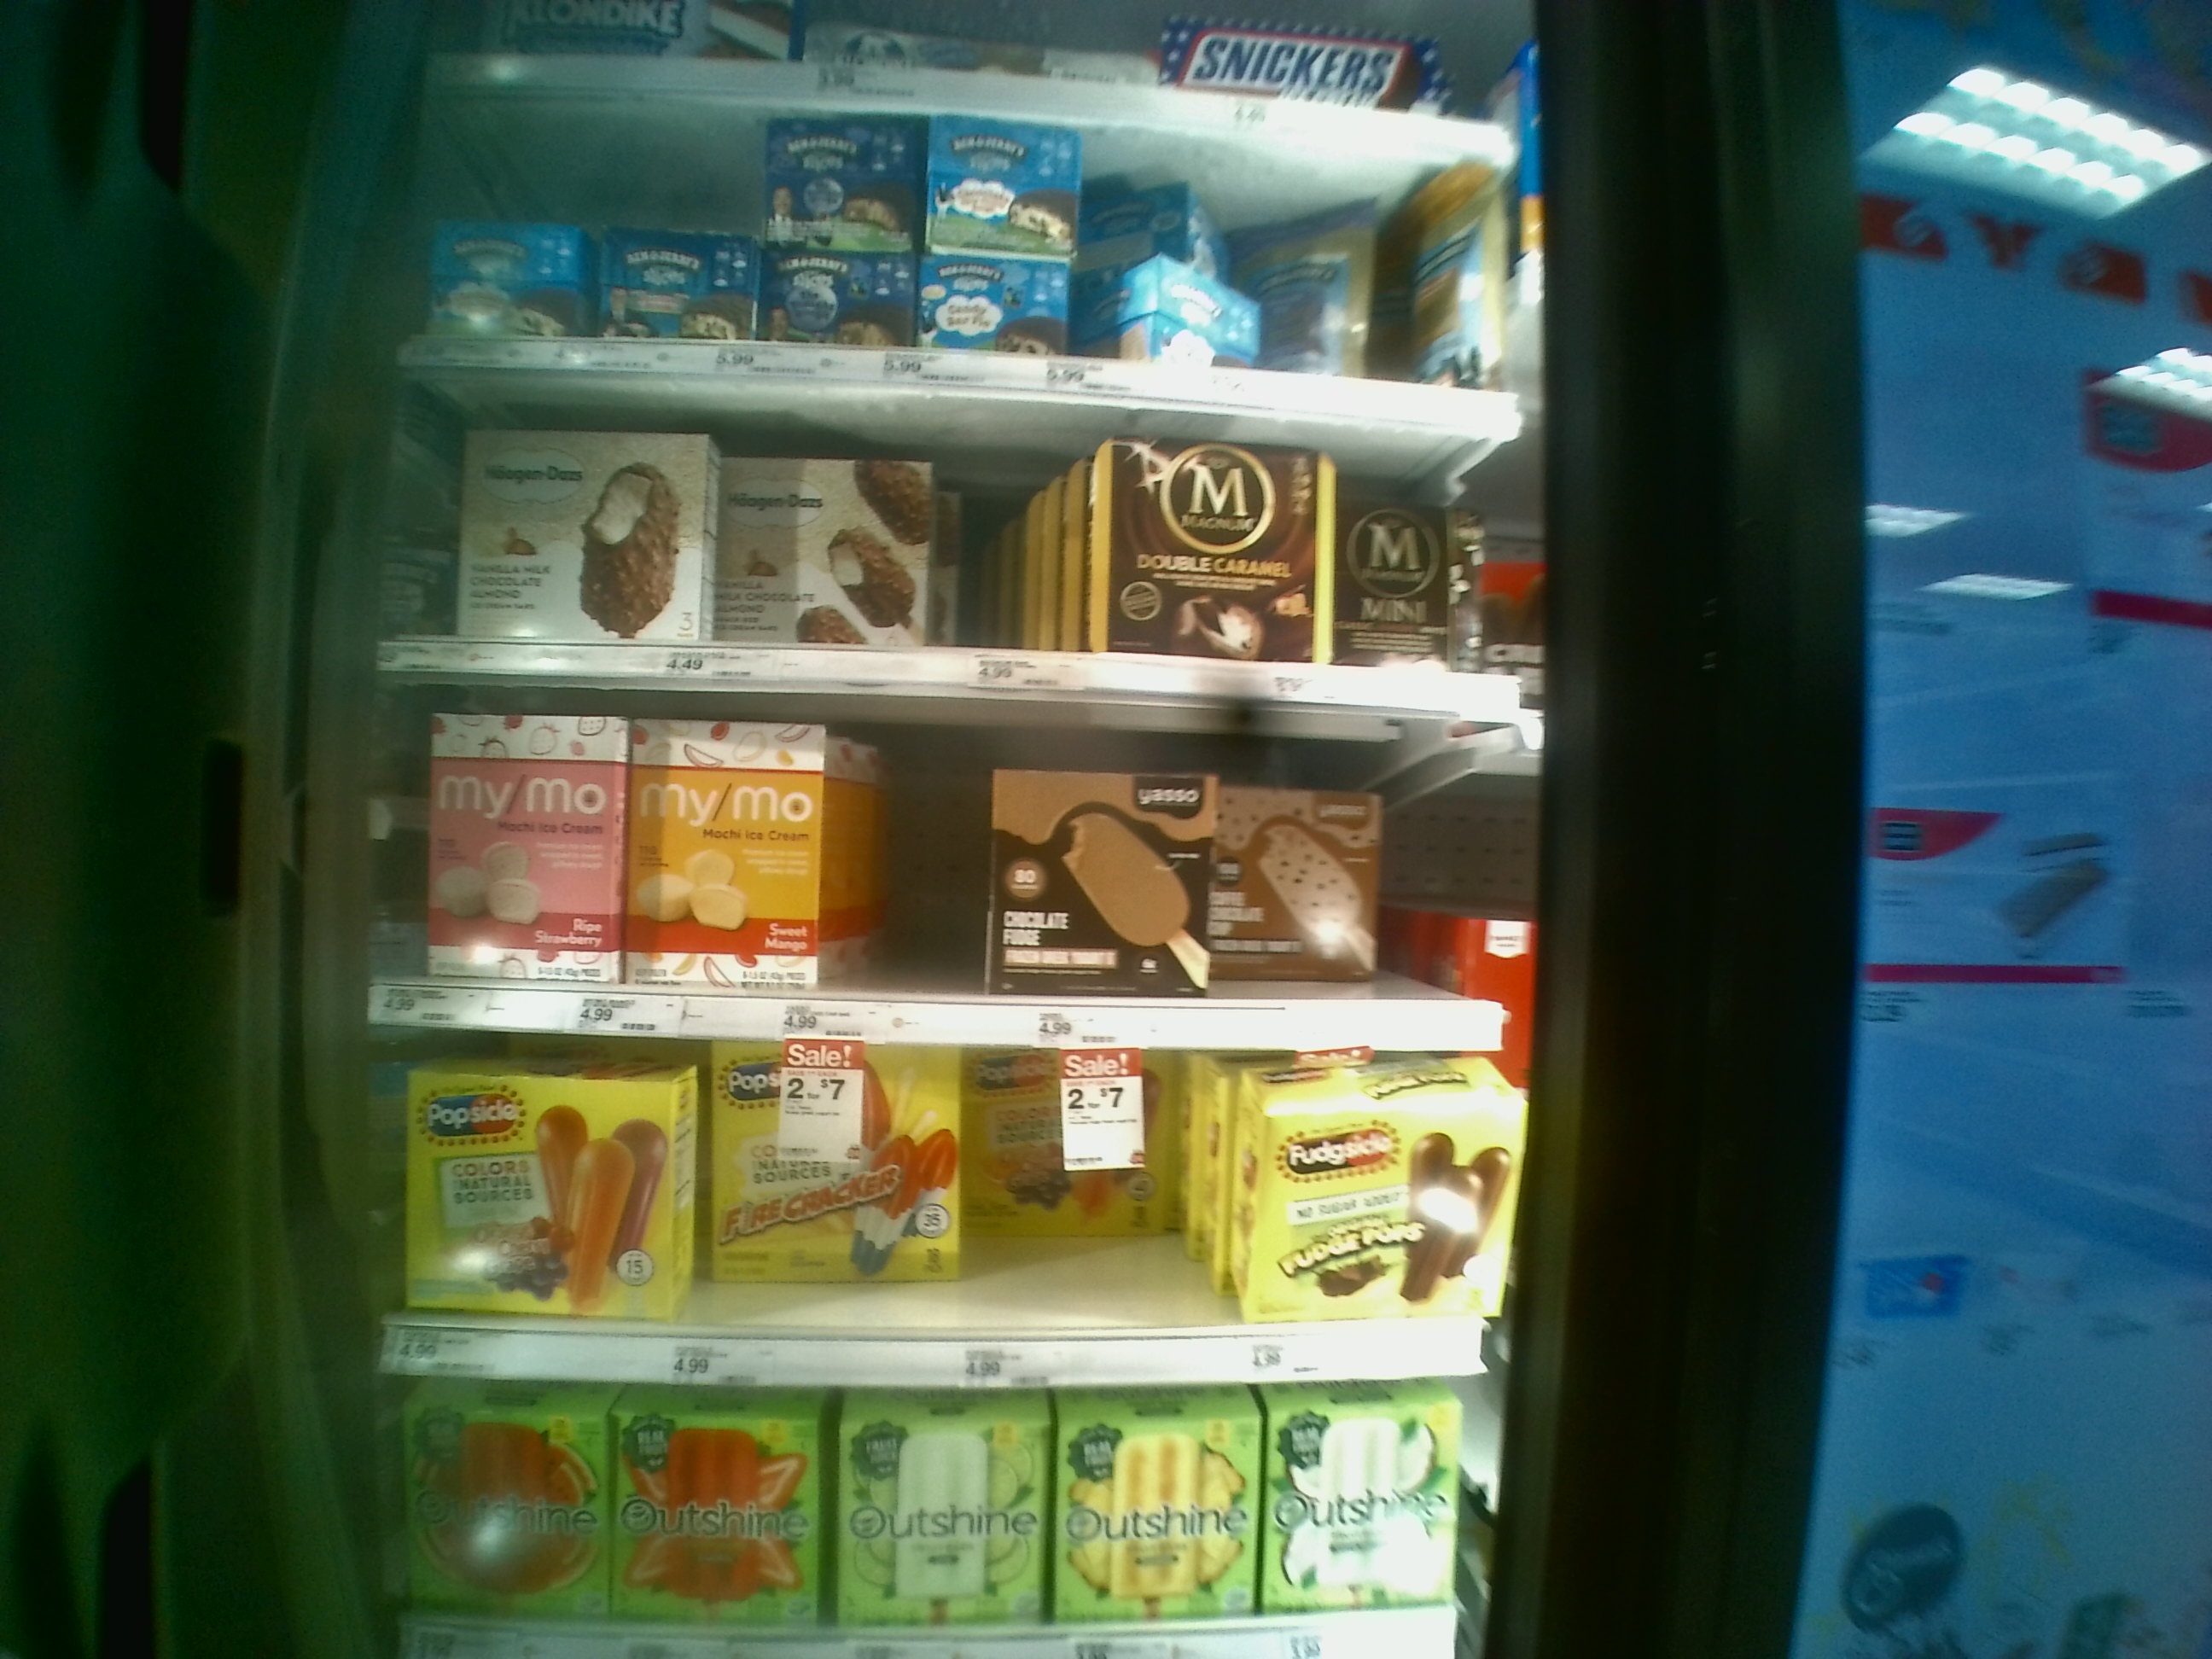shelf: (364, 704, 1538, 1047), (381, 1037, 1498, 1378), (394, 422, 1536, 708), (387, 1375, 1484, 1657)
